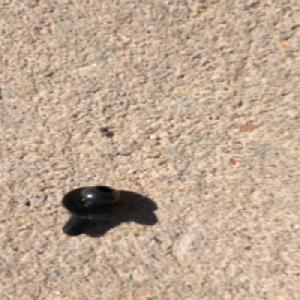BoltWasher: (59, 183, 129, 237)
